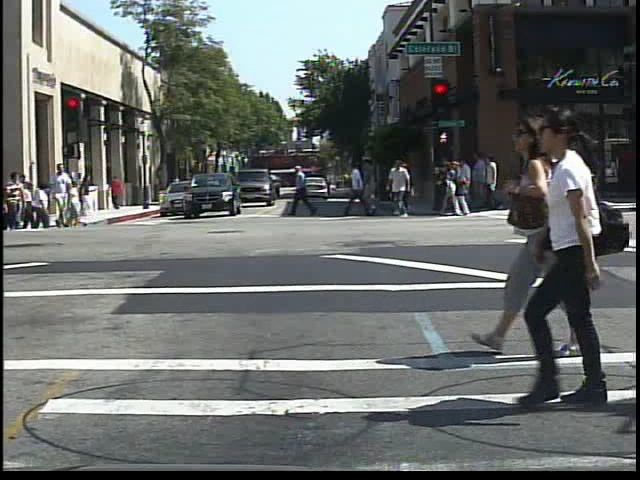person: (520, 102, 613, 412), (478, 112, 556, 353), (518, 143, 549, 211), (48, 162, 76, 230), (6, 165, 29, 233), (108, 174, 127, 212), (169, 170, 187, 201)
